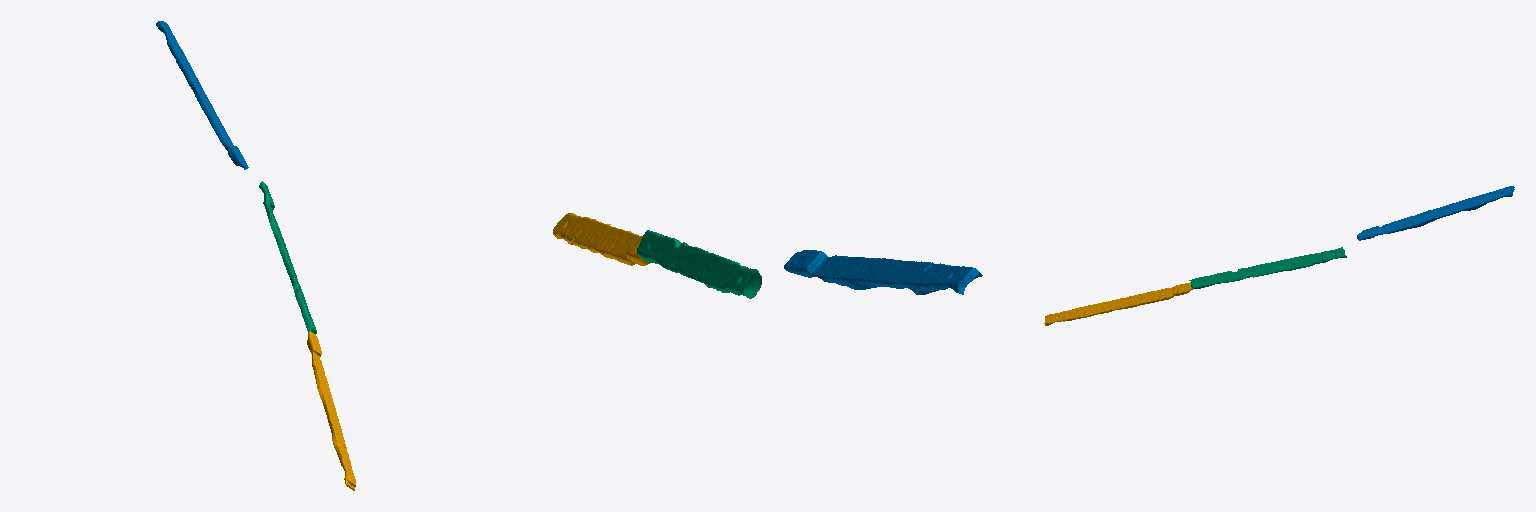
URDF robot description (foldingrule):
<?xml version="1.0"?>
<robot name="foldingrule">
  <link name ="rb0">
    <visual>
      <origin xyz='-0.088962 -0.110941 -0.101719' rpy='-0.763750 0.094724 0.797108'/>
      <geometry>
        <mesh filename="meshes/fr_left.obj"  scale="1 1 1" />
      </geometry>
    </visual>

     <collision>
      <origin xyz='-0.088962 -0.110941 -0.101719' rpy='-0.763750 0.094724 0.797108'/>
      <geometry>
        <mesh filename="meshes/fr_left.obj"  scale="1 1 1" />
      </geometry>
    </collision>

  </link>
  <joint name="j_0_1" type="revolute">
    <parent link="rb0"/>
    <child link="rb1"/>
    <origin xyz="0.0292465661625 0.133419924593 0.0147344520771" rpy="0 0 0 "/>
    <axis xyz="0.595566420931 -0.345890832972 0.725024254715"/>
    <limit effort="30" velocity="1.0" lower="-3.1416" upper="3.1416"/>
  </joint>
  <joint name="j_0_fixed" type="fixed">
    <parent link="rb1"/>
    <child link="rb1_marker"/>
      <origin xyz="0.0176596122858 0.12750786836 0.0435596665941" rpy="-0.438511310443 -0.56945116537 -3.01605226181"/>
    <limit effort="30" velocity="1.0" lower="-3.1416" upper="3.1416"/>
  </joint>
  <joint name="j_1_2" type="revolute">
    <parent link="rb1_marker"/>
    <child link="rb2"/>
    <origin xyz="-0.00405045472126 -0.0620555875401 0.0121410645552" rpy="0 0 0 "/>
    <axis xyz="-0.0189492079864 -0.00123730529387 0.999819682039"/>
    <limit effort="30" velocity="1.0" lower="-3.1416" upper="3.1416"/>
  </joint>
  <joint name="j_1_fixed" type="fixed">
    <parent link="rb2"/>
    <child link="rb2_marker"/>
      <origin xyz="0.00523592858036 -0.200565972854 -0.00192454443712" rpy="-3.10273870655 0.0366810522555 3.01291055085"/>
    <limit effort="30" velocity="1.0" lower="-3.1416" upper="3.1416"/>
  </joint>
  <link name ="rb1">
  </link>
  <link name ="rb1_marker">
    <visual>
      <origin xyz='-0.002675 0.057480 -0.011549' rpy='-1.290115 0.123020 -2.280432'/>
      <geometry>
        <mesh filename="meshes/fr_middle.obj"  scale="1 1 1" />
      </geometry>
    </visual>

     <collision>
      <origin xyz='-0.002675 0.057480 -0.011549' rpy='-1.290115 0.123020 -2.280432'/>
      <geometry>
        <mesh filename="meshes/fr_middle.obj"  scale="1 1 1" />
      </geometry>
    </collision>

  </link>
  <link name ="rb2">
  </link>
  <link name ="rb2_marker">
    <visual>
       <origin xyz='0.015145 0.106250 0.014812' rpy='1.575553 0.063516 2.072520'/>
      <geometry>
        <mesh filename="meshes/fr_right.obj"  scale="1 1 1" />
      </geometry>
    </visual>

     <coliision>
       <origin xyz='0.015145 0.106250 0.014812' rpy='1.575553 0.063516 2.072520'/>
      <geometry>
        <mesh filename="meshes/fr_right.obj"  scale="1 1 1" />
      </geometry>
    </coliision>

  </link>
</robot>

--- What the picture shows (computed from the rendered views, not written in the file) ---
Views: 3 orthographic renders of the robot side by side, from view 1: azimuth 30°, elevation 25°; view 2: azimuth 210°, elevation 25°; view 3: azimuth 270°, elevation 25°.
Robot: foldingrule — 5 links, 4 joints (2 revolute, 2 fixed); root link rb0; default pose: every joint at zero.
Links seen in each view (by area): view 1: rb2_marker, rb0, rb1_marker; view 2: rb2_marker, rb1_marker, rb0; view 3: rb2_marker, rb1_marker, rb0.
Boxes of the visible links, x1,y1,x2,y2 form: rb2_marker: (156,21,248,169); rb0: (307,331,355,490); rb1_marker: (259,181,316,333); rb2_marker: (784,250,982,294); rb1_marker: (637,230,761,298); rb0: (553,213,650,265); rb2_marker: (1357,186,1514,240); rb1_marker: (1189,247,1346,288); rb0: (1044,282,1192,325).
Size in the robot's own frame: 0.1263 by 0.5511 by 0.2317 metres.
3 mesh visuals loaded from 3 distinct referenced files (3 OBJ).